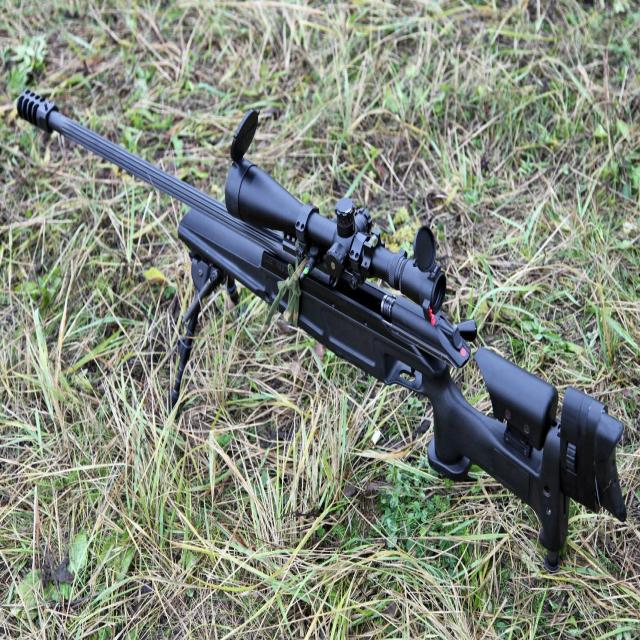firearm: (15, 83, 628, 576)
